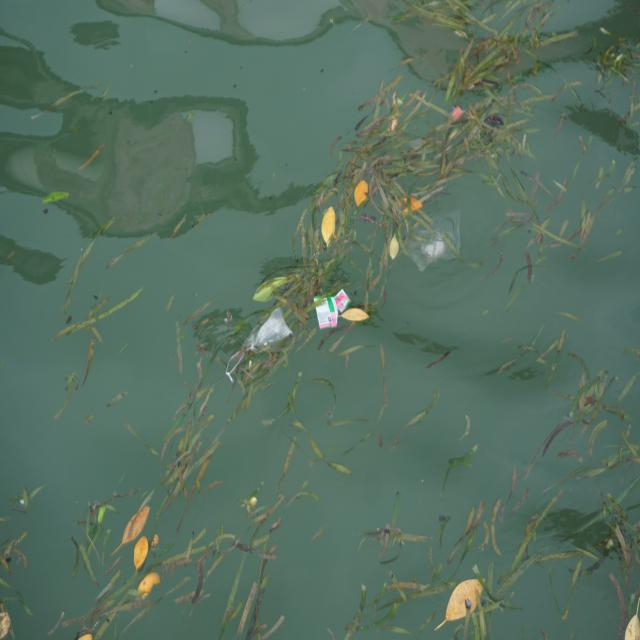Kantong Plastik: (405, 208, 463, 275), (242, 307, 294, 355)
